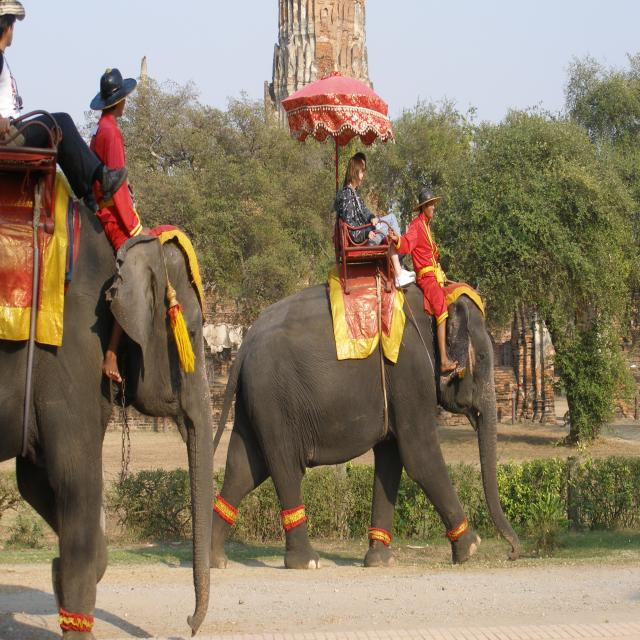Elephant: (224, 256, 541, 606), (4, 148, 218, 634)
person: (0, 0, 129, 201), (84, 63, 156, 389), (403, 186, 463, 378), (336, 152, 410, 280)
